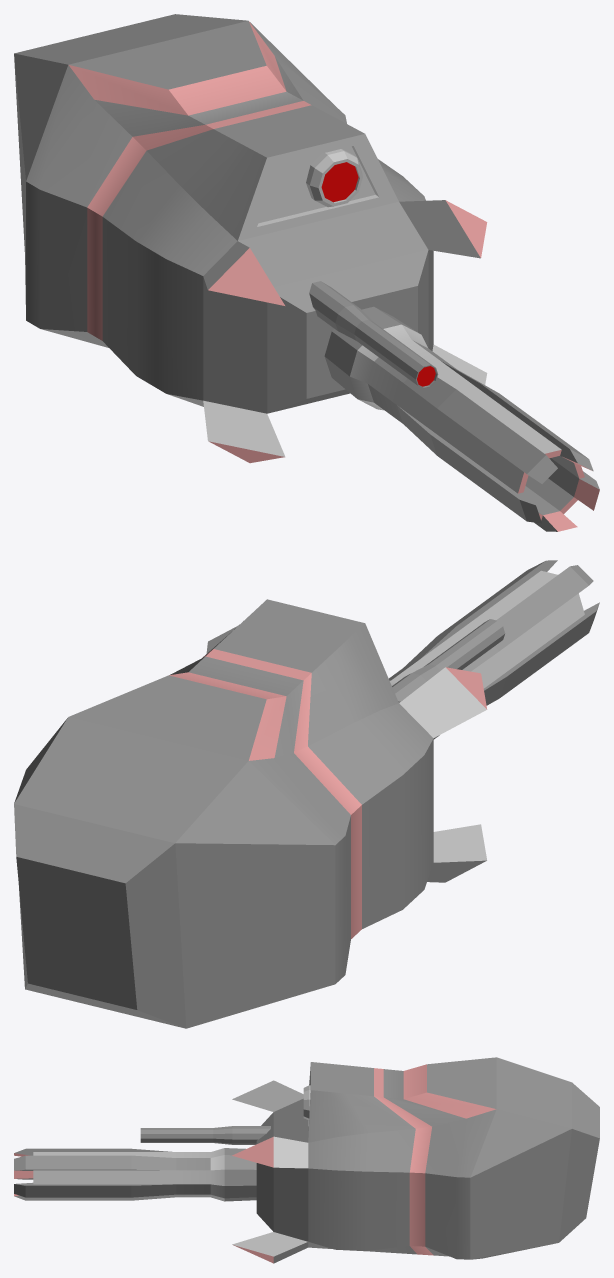
Rendered from BasicDroneHead.fbx.
The picture shows the model from 3 angles, top to bottom: view 1: azimuth 30°, elevation 25°; view 2: azimuth 150°, elevation 25°; view 3: azimuth 270°, elevation 25°; orthographic projection. The views are drawn at different scales.
Visible parts, largest first — view 1: BasicDroneHead; view 2: BasicDroneHead; view 3: BasicDroneHead.
Part boxes in pixels (x1,y1,x2,y2): BasicDroneHead: (14, 14, 599, 531); BasicDroneHead: (14, 560, 599, 1028); BasicDroneHead: (14, 1057, 599, 1263).
Bounding box in the file's own units: 2.61 × 2.18 × 7.25.
